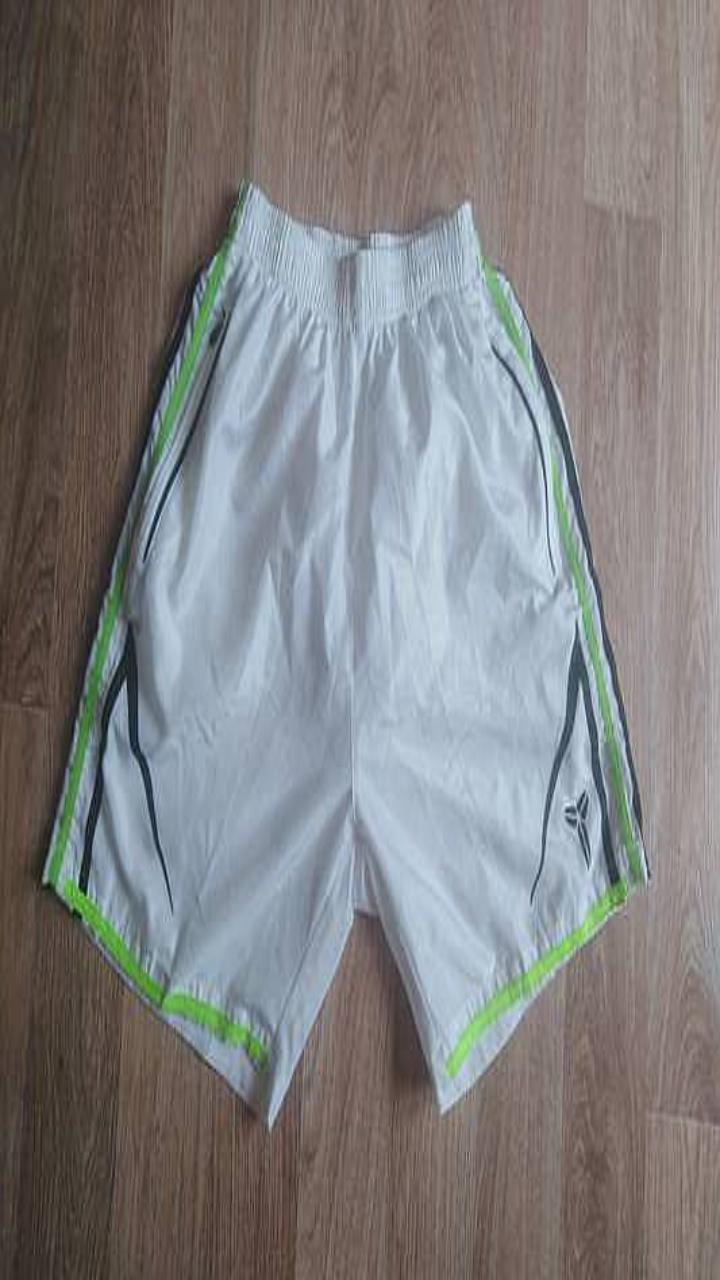Shorts: (44, 185, 648, 1124)
